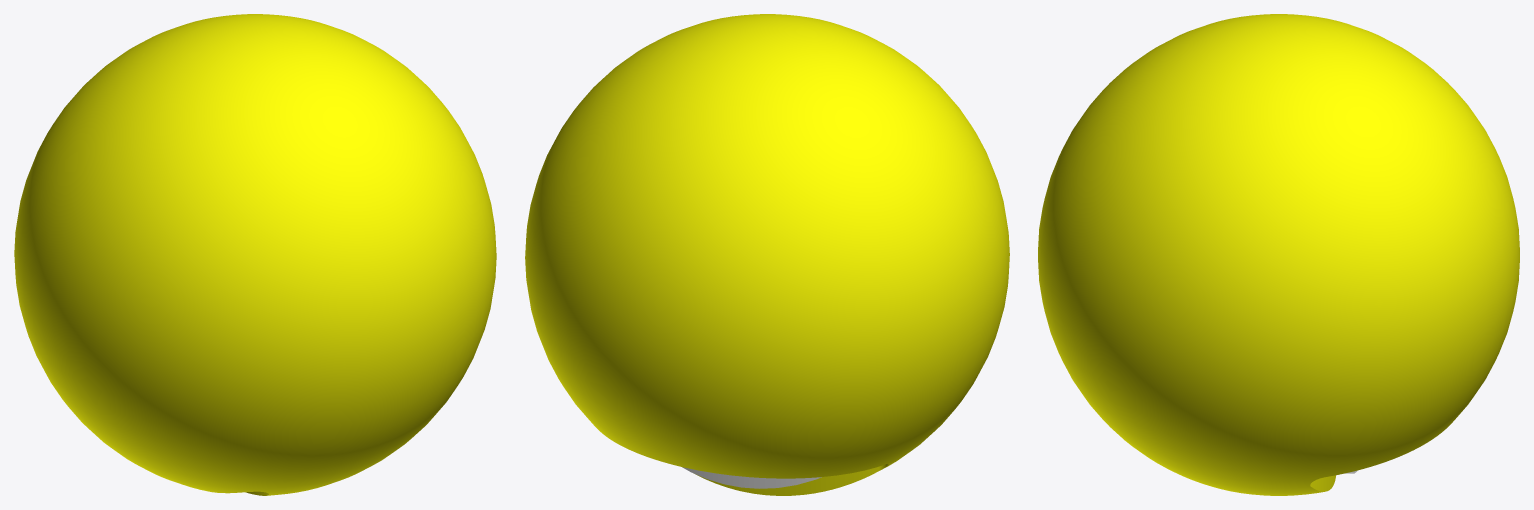
File: smile.fbx
The picture shows the model from 3 angles, left to right: view 1: azimuth 30°, elevation 25°; view 2: azimuth 150°, elevation 25°; view 3: azimuth 270°, elevation 25°; orthographic projection.
Parts seen in each view (by area): view 1: Object_3; view 2: Object_3, Object_1; view 3: Object_3.
Part boxes in pixels (x1,y1,x2,y2): Object_3: (14, 14, 496, 495); Object_3: (525, 14, 1009, 495); Object_1: (682, 467, 821, 488); Object_3: (1038, 14, 1519, 495).
Bounding box in the file's own units: 39.38 × 39.43 × 39.38.
